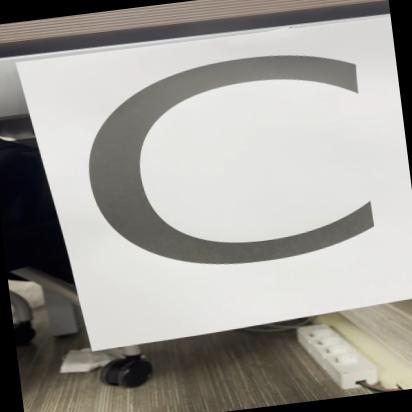seat: (15, 15, 412, 357)
